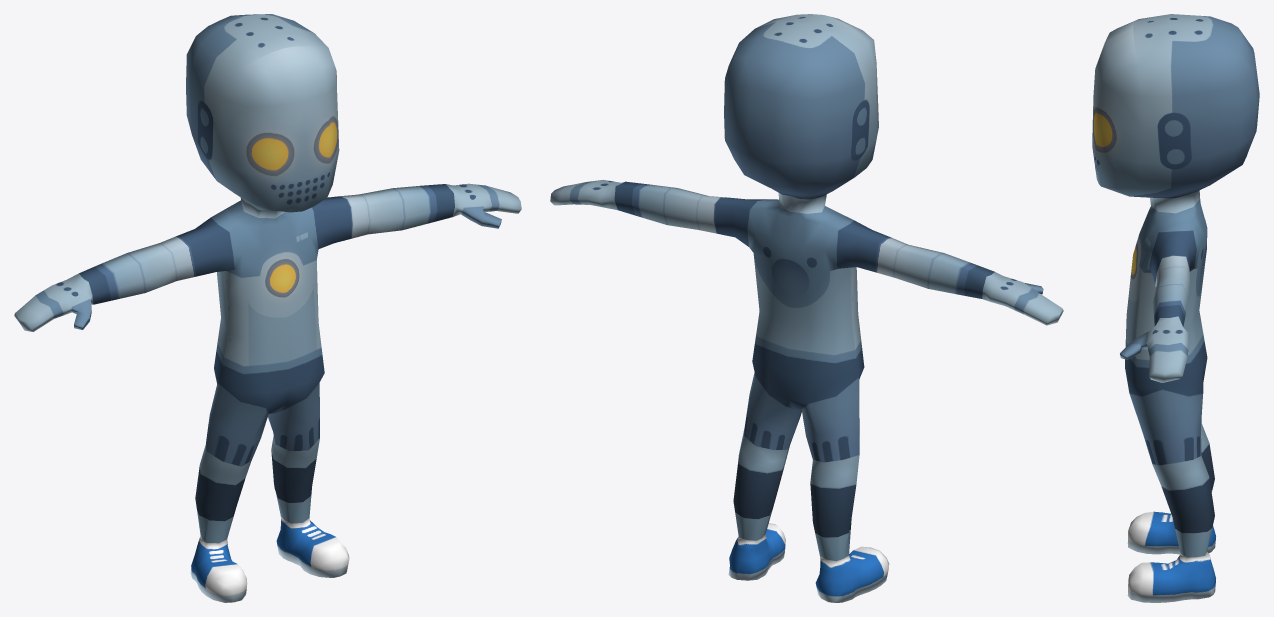
File: robo.fbx
3 renders of one model, left to right at view 1: azimuth 30°, elevation 25°; view 2: azimuth 150°, elevation 25°; view 3: azimuth 270°, elevation 25°, orthographic.
Parts seen in each view (by area): view 1: characterMedium; view 2: characterMedium; view 3: characterMedium.
Part boxes in pixels (x1,y1,x2,y2): characterMedium: (14,14,521,602); characterMedium: (550,14,1063,602); characterMedium: (1092,14,1259,602).
Size of the model in its own units: 3.62 by 3.76 by 1.05.
1 material, 1 textured.
